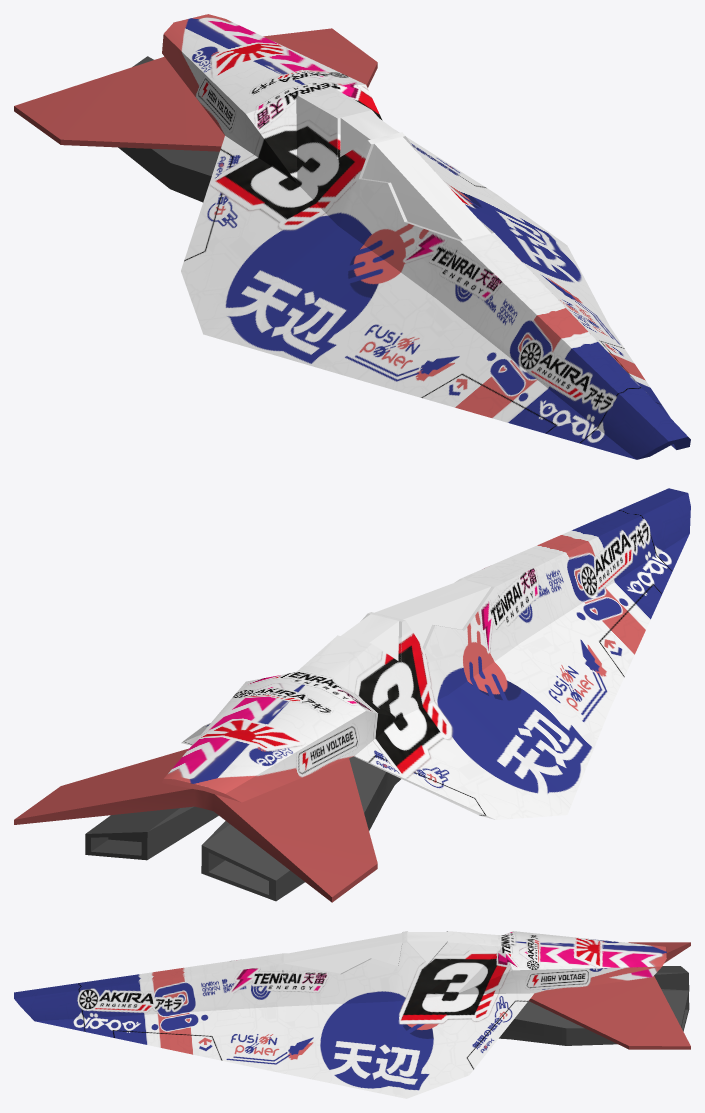
File: apex.glb
3 renders of one model, top to bottom at view 1: azimuth 30°, elevation 25°; view 2: azimuth 150°, elevation 25°; view 3: azimuth 270°, elevation 25°, orthographic. The views are drawn at different scales.
Visible parts, largest first — view 1: Airframe front, Airframe aft, Engine block; view 2: Airframe front, Airframe aft, Engine block; view 3: Airframe front, Airframe aft, Engine block.
Part boxes in pixels (x1,y1,x2,y2): Airframe front: [162, 14, 690, 459]; Airframe aft: [14, 28, 377, 151]; Engine block: [118, 56, 219, 202]; Airframe front: [162, 488, 690, 819]; Airframe aft: [14, 748, 377, 902]; Engine block: [85, 756, 400, 901]; Airframe front: [14, 931, 666, 1098]; Airframe aft: [529, 942, 690, 1049]; Engine block: [499, 966, 689, 1045].
Size of the model in its own units: 2.28 by 0.9169 by 5.48.
Materials: 4 (1 with a texture image).
